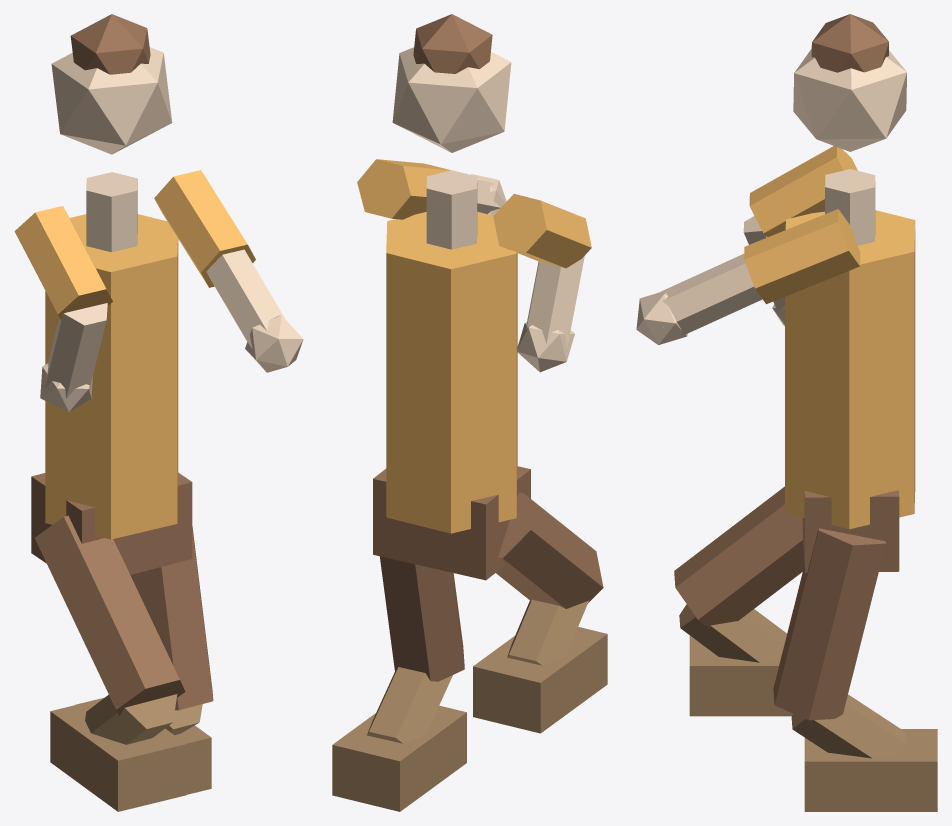
Rendered from pose_walk_08.glb.
3 renders of one model, left to right at view 1: azimuth 30°, elevation 25°; view 2: azimuth 150°, elevation 25°; view 3: azimuth 270°, elevation 25°, orthographic.
Visible parts, largest first — view 1: pose; view 2: pose; view 3: pose.
Boxes of the visible parts, box(x1,y1,x2,y2) form: pose: box(14, 14, 303, 811); pose: box(332, 14, 607, 811); pose: box(636, 14, 937, 811).
Size of the model in its own units: 0.3975 by 1.52 by 0.5437.
